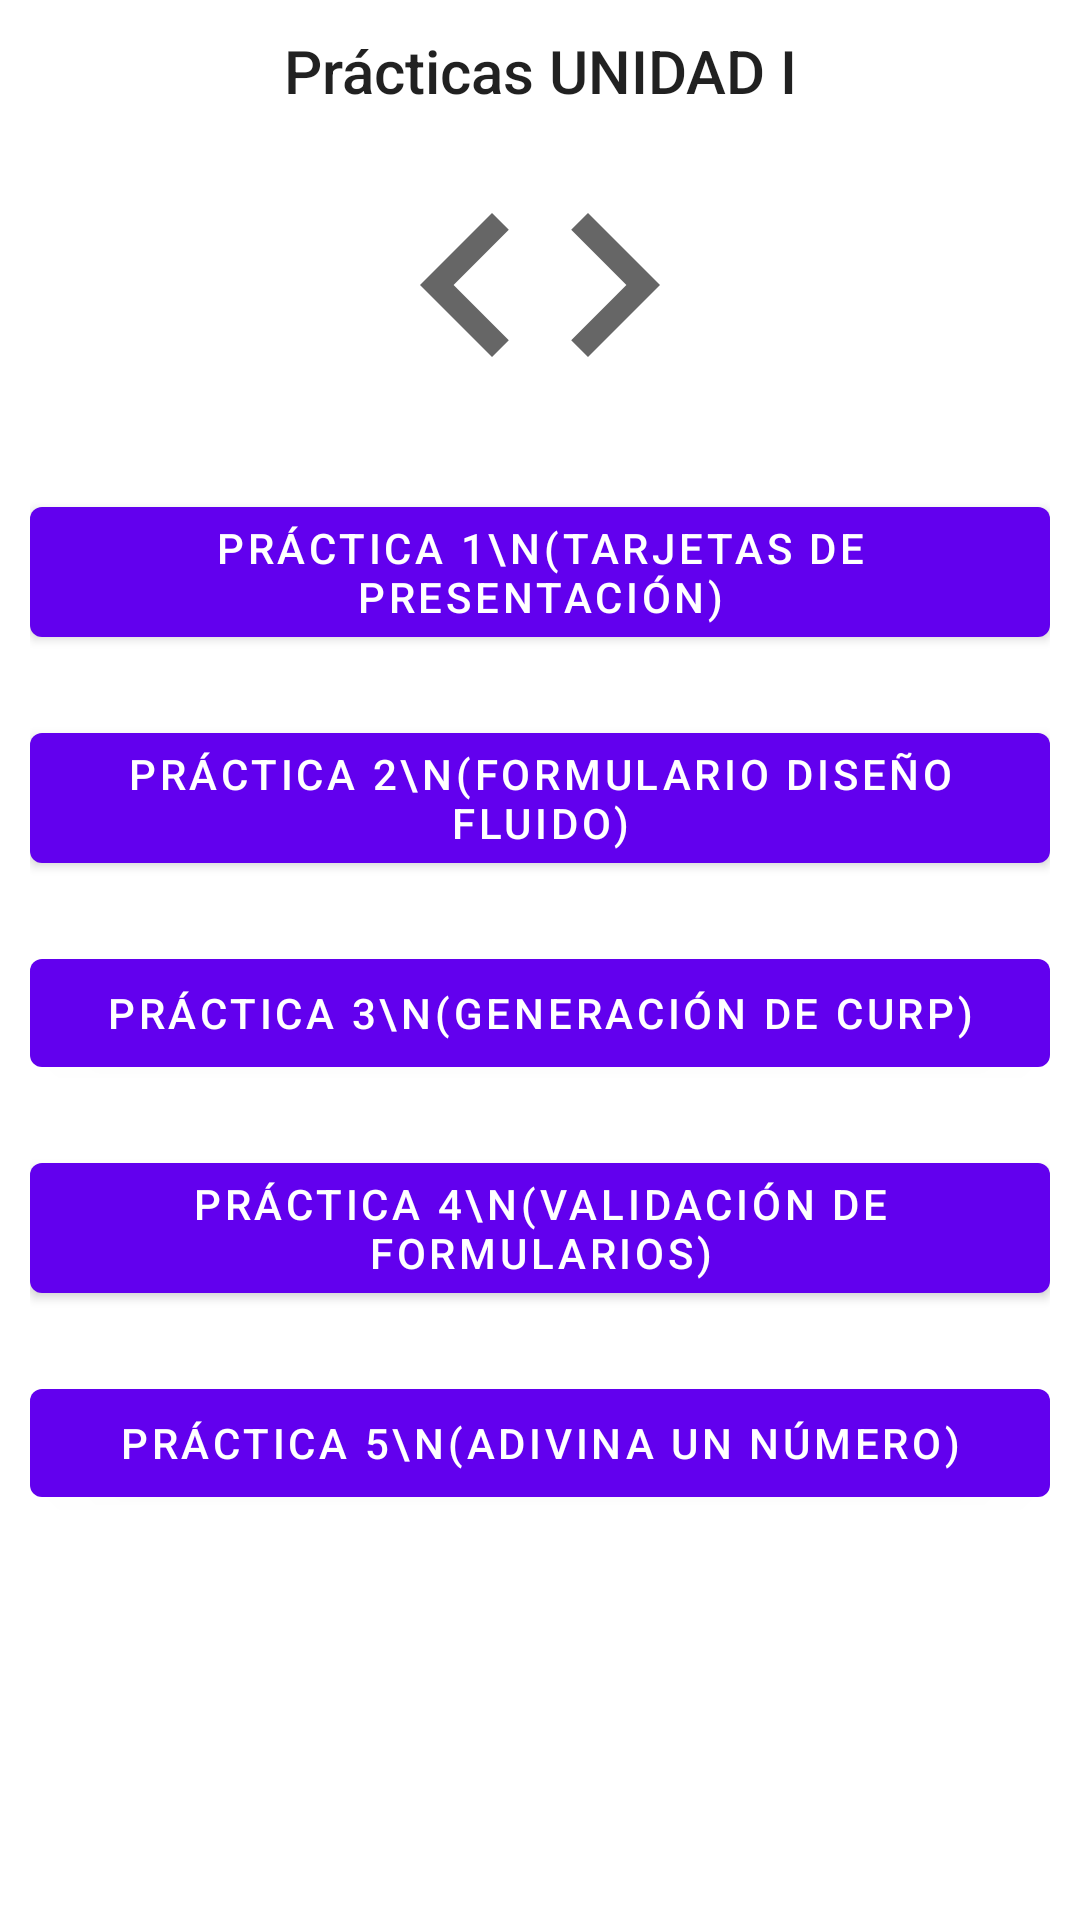

Locate icon controls on the screen. Image size 1080px x 1920px, boxes as Rect(x1, y1, x2, y2).
code: Rect(420, 213, 660, 357)
